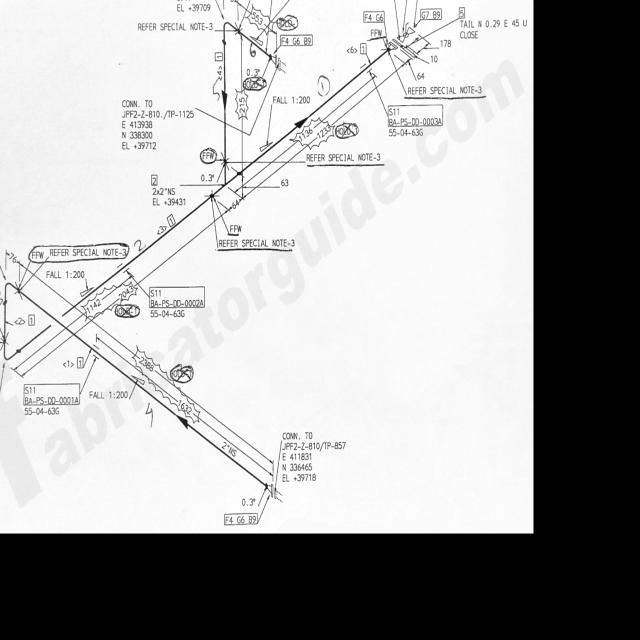Item number: (148, 286, 206, 310), (22, 383, 80, 407), (386, 105, 443, 127), (281, 32, 314, 47), (224, 512, 259, 526), (362, 9, 386, 24), (420, 8, 443, 20), (157, 217, 173, 233), (27, 311, 36, 330), (165, 212, 175, 228), (228, 225, 241, 235), (77, 356, 85, 369), (459, 5, 466, 19), (151, 173, 158, 186), (216, 50, 223, 62)
Measrement: (19, 257, 275, 469), (95, 330, 274, 481), (234, 0, 274, 38), (220, 437, 240, 459), (4, 245, 20, 269), (240, 497, 257, 508), (244, 176, 257, 187)
Pipeline: (56, 17, 389, 320), (56, 320, 266, 490), (3, 278, 56, 366)
Symbol: (221, 19, 242, 39), (292, 110, 312, 131)
Weld number: (166, 362, 195, 386), (333, 122, 360, 140), (243, 76, 268, 93), (199, 146, 219, 164), (316, 73, 331, 97)
other: (116, 97, 194, 152), (278, 430, 348, 482), (457, 15, 530, 37), (216, 236, 296, 255), (137, 21, 212, 32), (150, 188, 187, 207), (45, 268, 85, 280), (388, 127, 423, 138), (23, 406, 60, 416), (150, 310, 184, 319)
